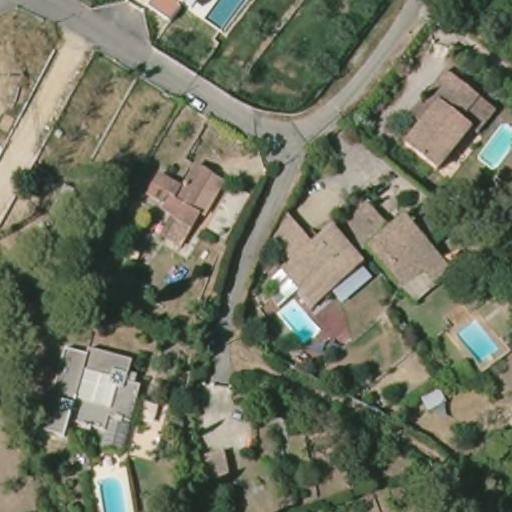pool: (270, 296, 326, 348), (454, 316, 500, 364), (87, 465, 133, 511), (476, 118, 511, 173), (199, 0, 255, 30)
